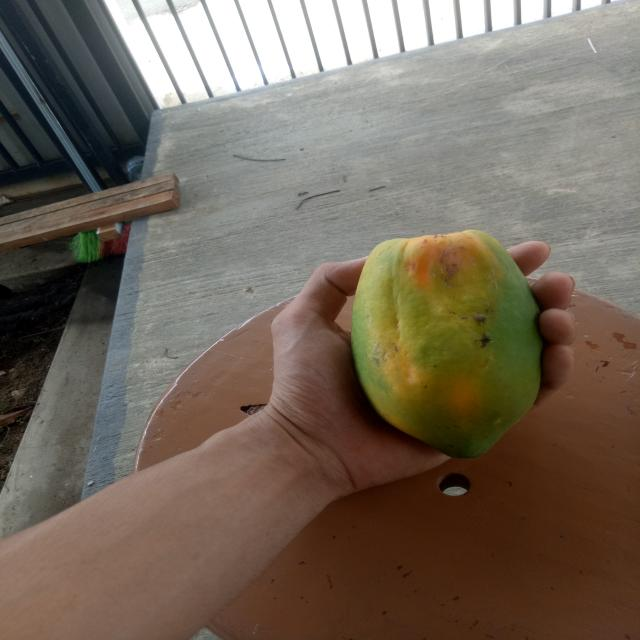Pepaya rippen: (339, 226, 541, 463)
